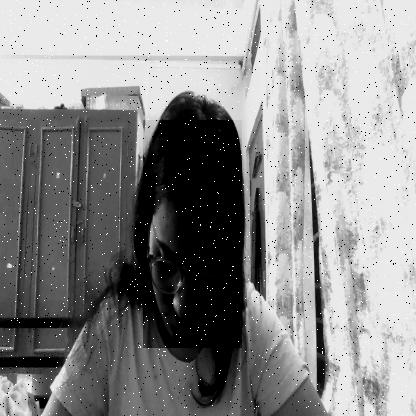Distracted: (143, 120, 242, 348)
